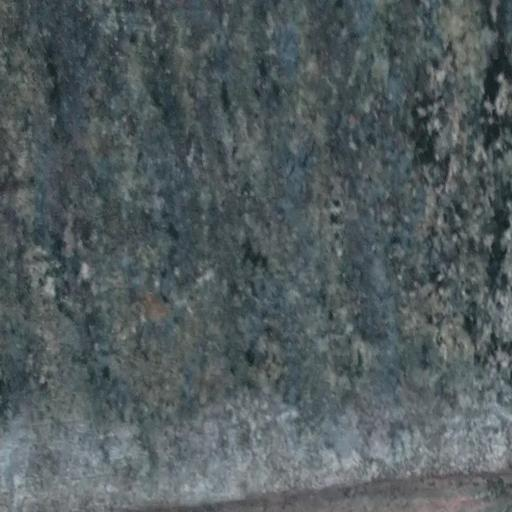algae: (0, 6, 509, 420)
